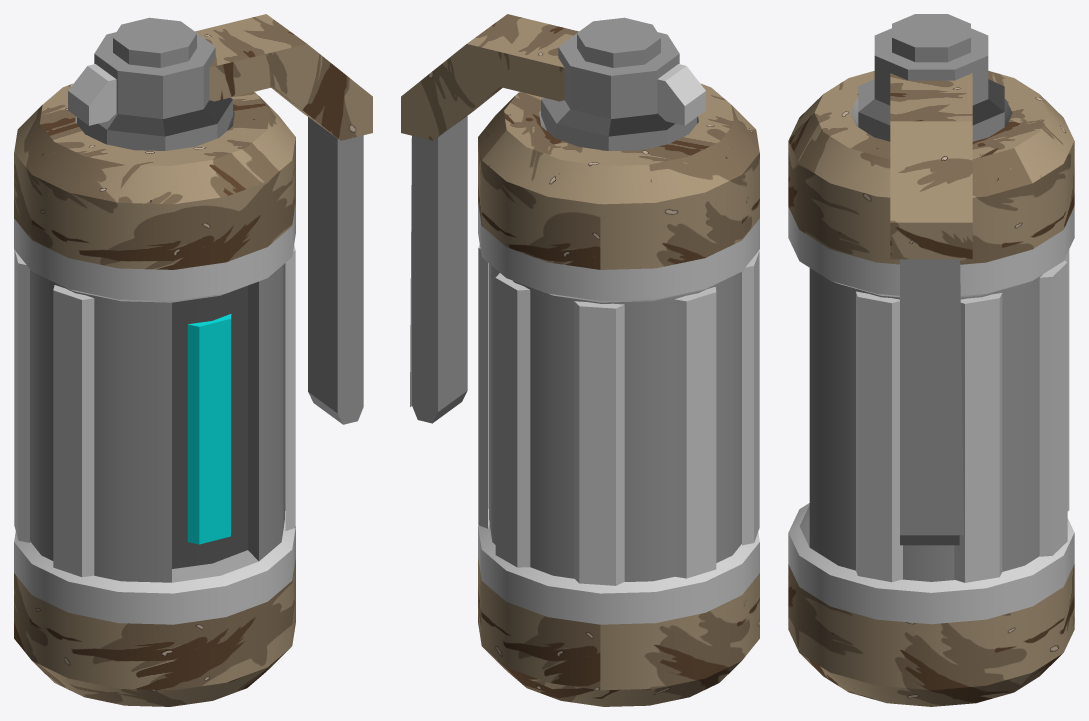
The model's file is SM_GrenadeA.fbx.
3 views of the same model, side by side, from view 1: azimuth 30°, elevation 25°; view 2: azimuth 150°, elevation 25°; view 3: azimuth 270°, elevation 25° (orthographic).
Visible parts, largest first — view 1: SM_GrenadeA; view 2: SM_GrenadeA; view 3: SM_GrenadeA.
Part boxes in pixels (left/top/right/bottom): SM_GrenadeA: left=14, top=14, right=372, bottom=706; SM_GrenadeA: left=401, top=14, right=759, bottom=706; SM_GrenadeA: left=788, top=14, right=1074, bottom=706.
Size of the model in its own units: 6.29 by 11.68 by 4.83.
